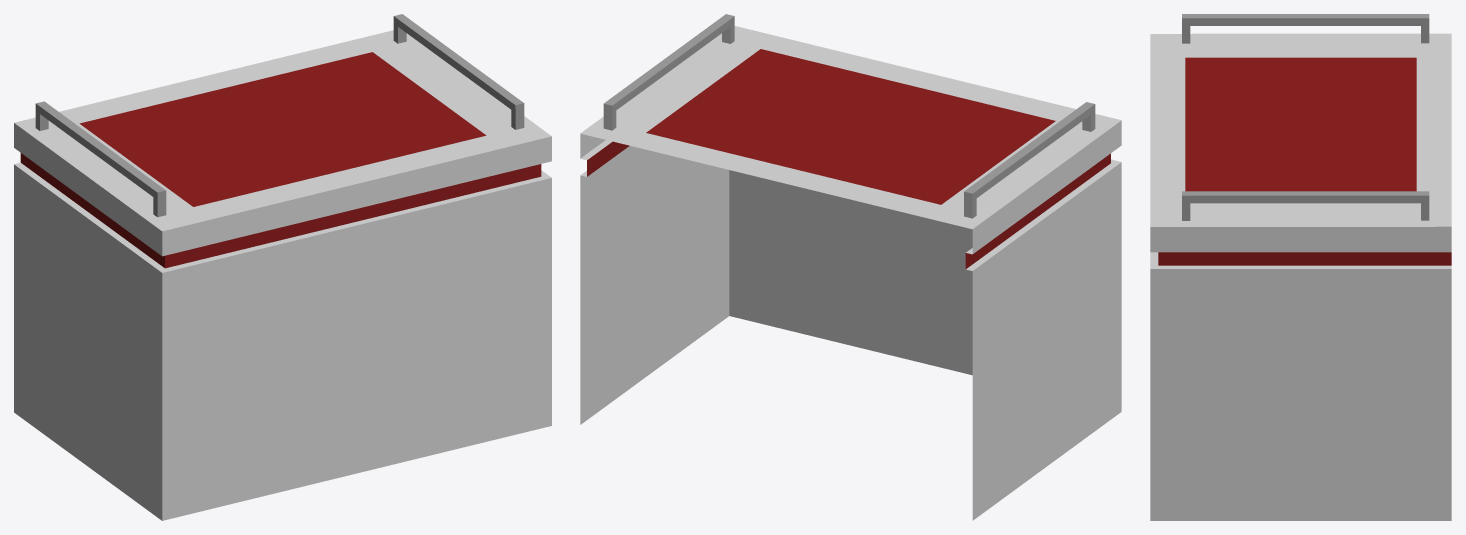
File: PlateTaking.FBX
3 renders of one model, left to right at view 1: azimuth 30°, elevation 25°; view 2: azimuth 150°, elevation 25°; view 3: azimuth 270°, elevation 25°, orthographic.
Visible parts, largest first — view 1: FoodServingArea001; view 2: FoodServingArea001; view 3: FoodServingArea001.
Boxes of the visible parts, x1,y1,x2,y2 form: FoodServingArea001: (14,14,551,520); FoodServingArea001: (580,14,1121,520); FoodServingArea001: (1150,14,1451,520).
Bounding box in the file's own units: 128 × 98.95 × 84.56.
